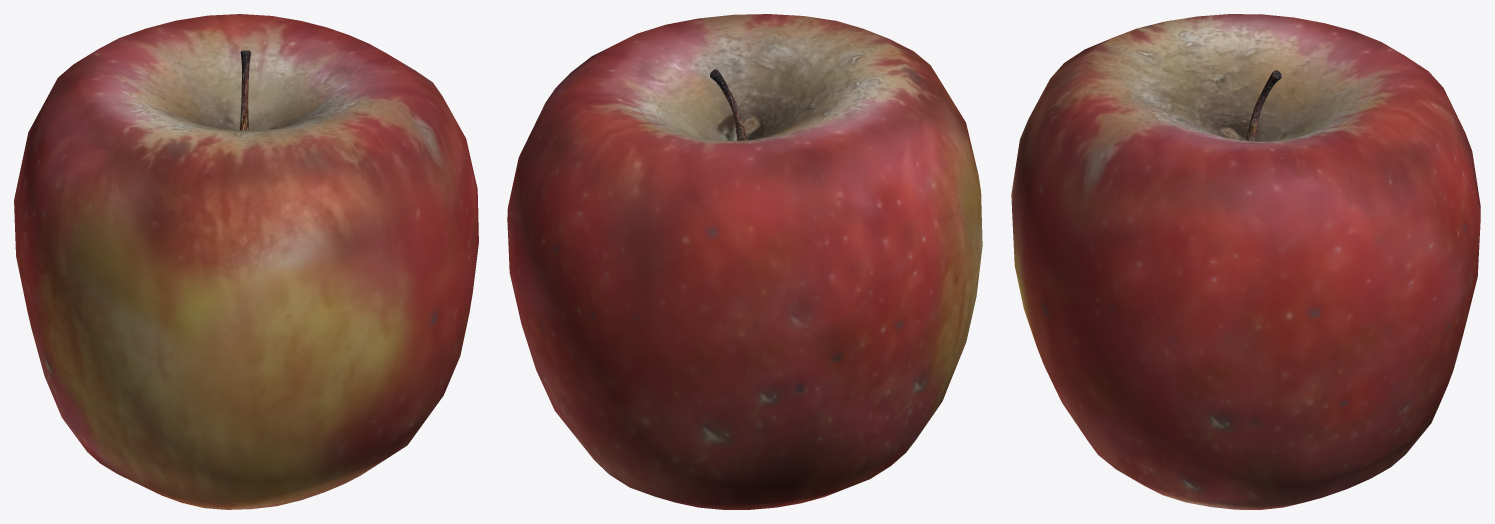
The model's file is z3_manzana.obj.
3 renders of one model, left to right at view 1: azimuth 30°, elevation 25°; view 2: azimuth 150°, elevation 25°; view 3: azimuth 270°, elevation 25°, orthographic.
Visible parts, largest first — view 1: SM_Apple; view 2: SM_Apple; view 3: SM_Apple.
Boxes of the visible parts, box(x1,y1,x2,y2) form: SM_Apple: box(14, 14, 478, 509); SM_Apple: box(507, 14, 982, 509); SM_Apple: box(1011, 14, 1480, 509).
Bounding box in the file's own units: 0.0856 × 0.0789 × 0.0858.
Materials: 2 (2 with a texture image).
